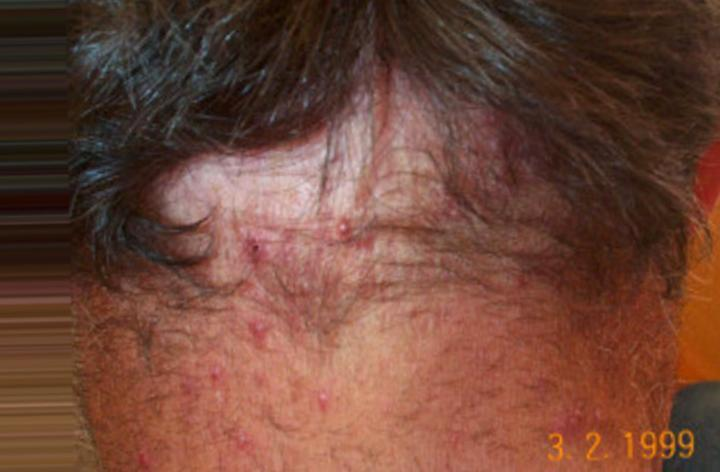Folliculitis: (169, 108, 589, 324)
